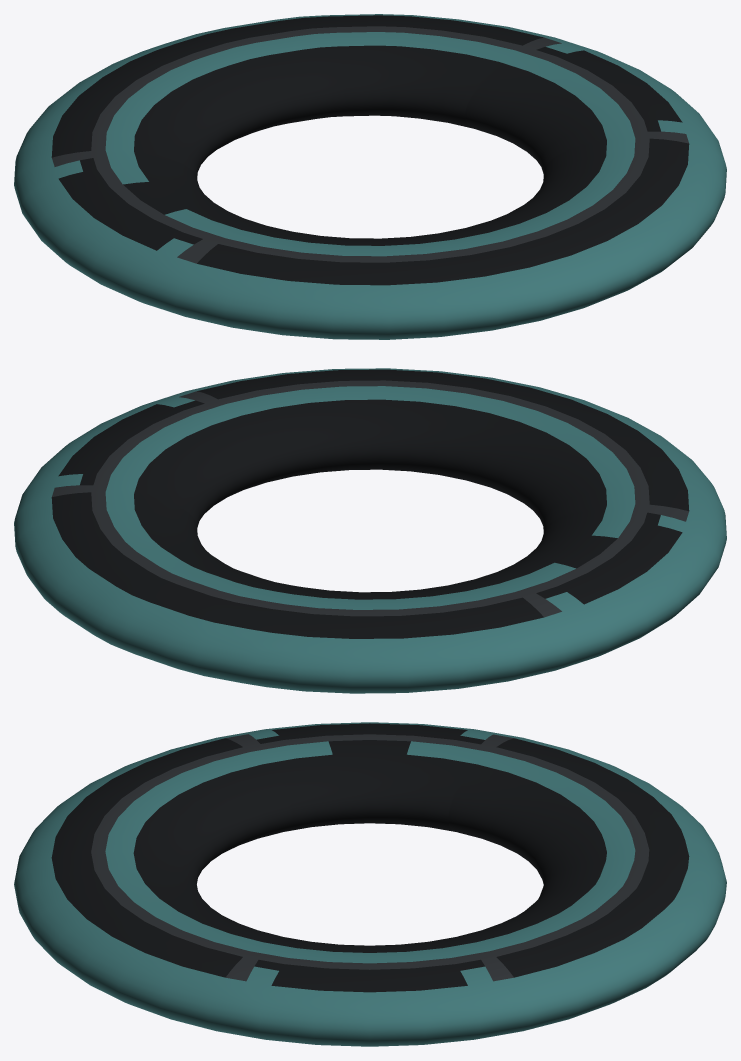
The model's file is Disc.fbx.
The picture shows the model from 3 angles, top to bottom: view 1: azimuth 30°, elevation 25°; view 2: azimuth 150°, elevation 25°; view 3: azimuth 270°, elevation 25°; orthographic projection.
Visible parts, largest first — view 1: pTorus1; view 2: pTorus1; view 3: pTorus1.
Boxes of the visible parts, left/top/right/bottom form: pTorus1: left=14, top=14, right=726, bottom=339; pTorus1: left=14, top=368, right=726, bottom=693; pTorus1: left=14, top=722, right=726, bottom=1046.
Bounding box in the file's own units: 4.4 × 0.4484 × 4.41.
